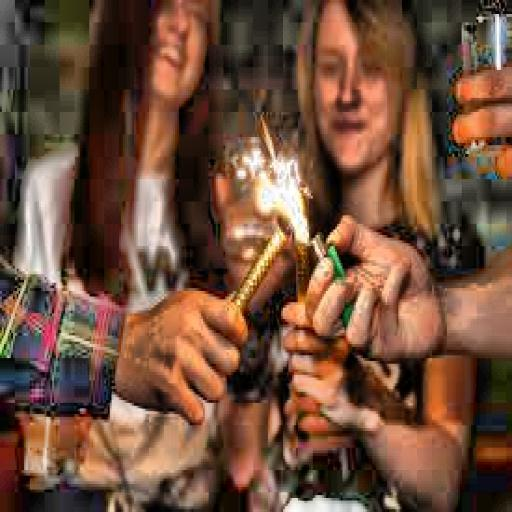fire: (246, 168, 316, 252)
